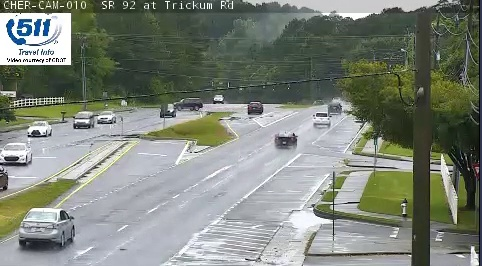car: (19, 208, 74, 241), (274, 131, 296, 148), (314, 112, 330, 127)
